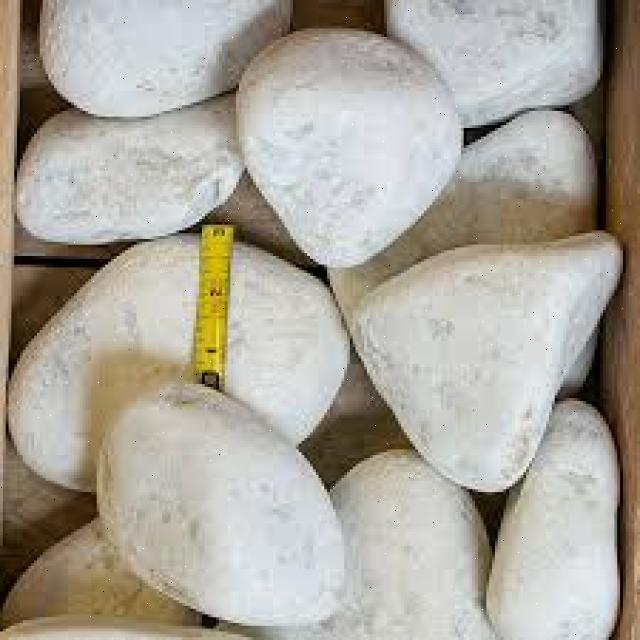Metamorphic: (352, 210, 626, 490), (91, 370, 358, 640), (230, 9, 467, 270), (338, 455, 506, 640)
